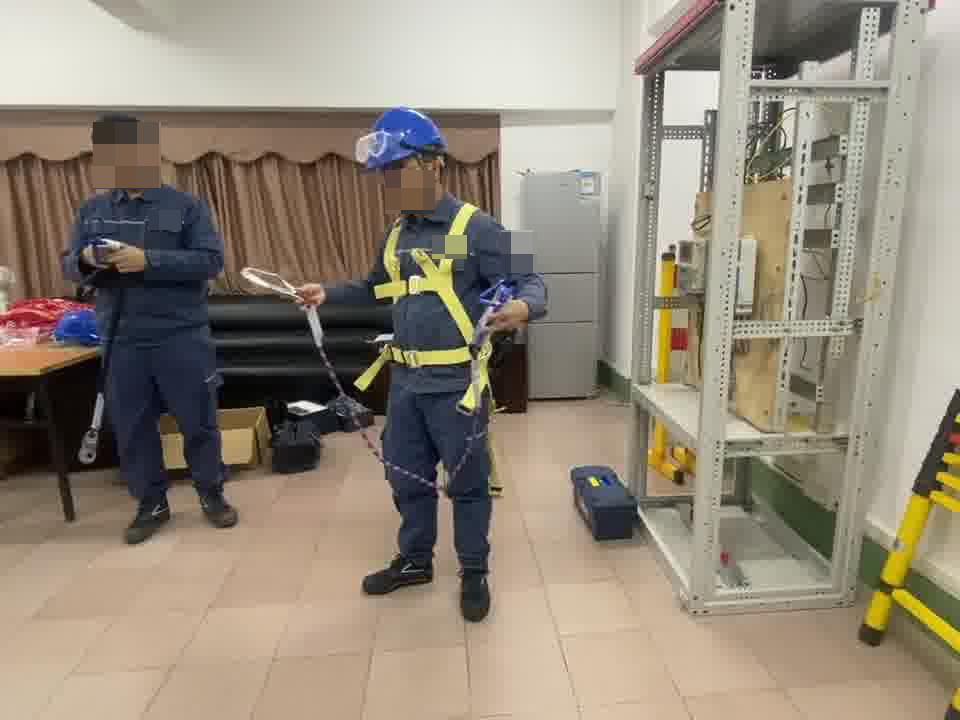downsuit: (94, 335, 224, 490), (381, 396, 494, 568)
halt: (355, 110, 445, 199)
hand: (102, 241, 144, 274), (498, 296, 530, 334), (293, 284, 323, 309)
inear: (414, 148, 443, 189)
person: (311, 104, 545, 612), (59, 112, 240, 531)
safebelt: (356, 199, 512, 483)
unhalt: (89, 113, 156, 190)
upsuit: (354, 194, 536, 378), (70, 181, 221, 332)
